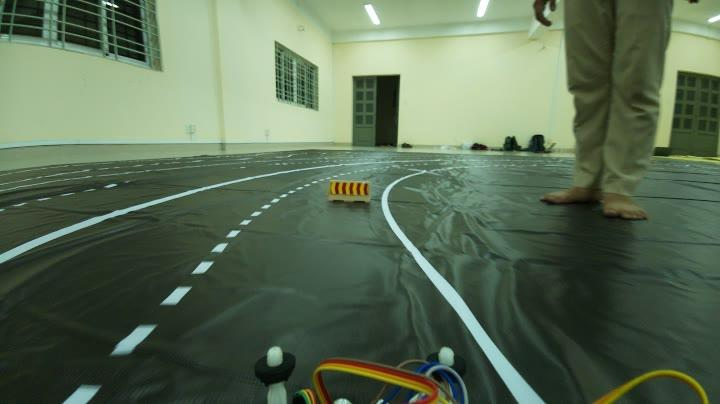roadblock: (326, 174, 374, 206)
